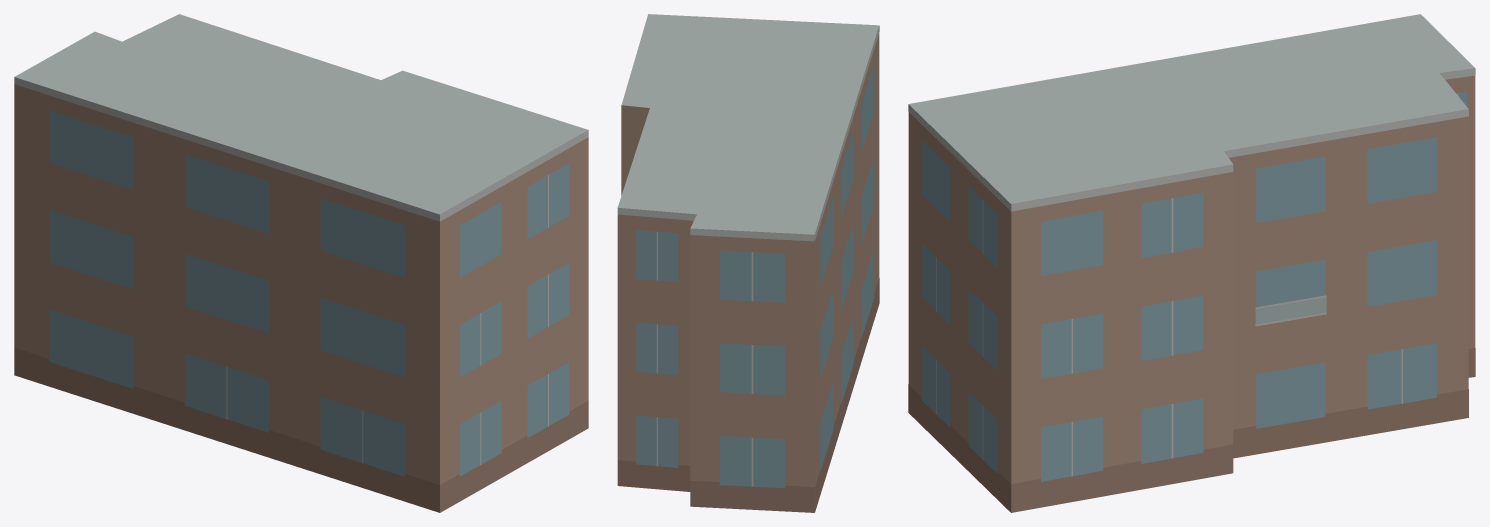
The model's file is survey-upis-32889247.glb.
3 views of the same model, side by side, from view 1: azimuth 30°, elevation 25°; view 2: azimuth 150°, elevation 25°; view 3: azimuth 270°, elevation 25° (orthographic). The views are drawn at different scales.
Visible parts, largest first — view 1: survey-upis-32889247.tmp; view 2: survey-upis-32889247.tmp; view 3: survey-upis-32889247.tmp.
Part boxes in pixels (<box>): survey-upis-32889247.tmp: <box>14,14,588,512</box>; survey-upis-32889247.tmp: <box>617,14,879,512</box>; survey-upis-32889247.tmp: <box>908,14,1475,512</box>.
Size of the model in its own units: 13.48 by 10.2 by 16.99.
